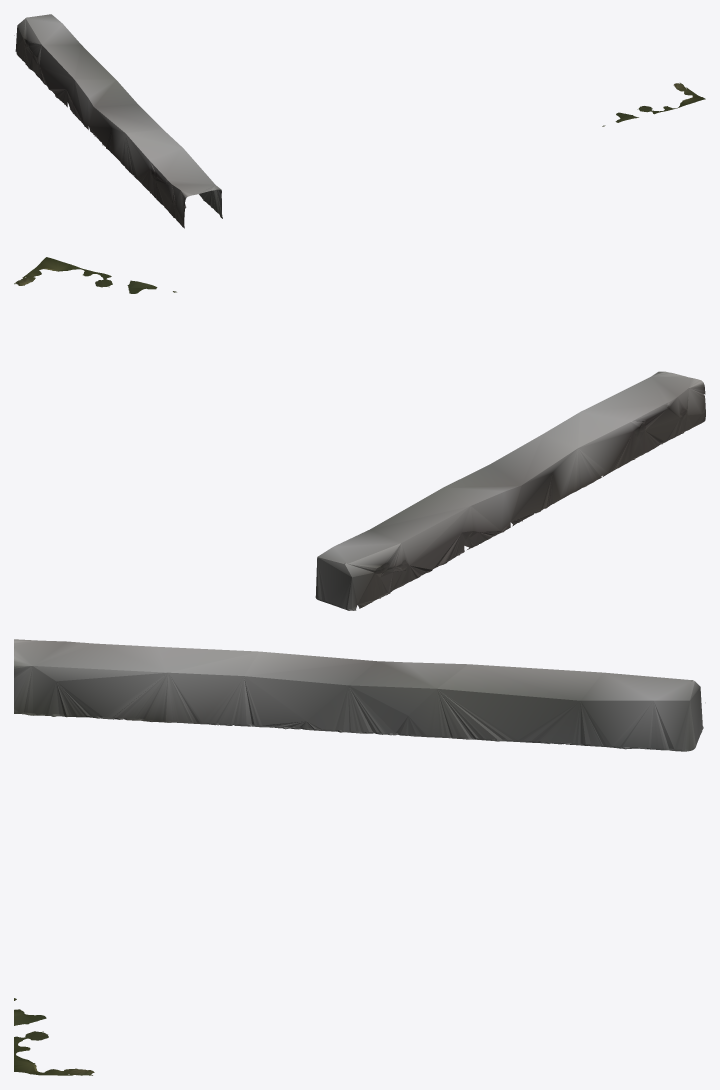
File: coarse.glb
3 renders of one model, top to bottom at view 1: azimuth 30°, elevation 25°; view 2: azimuth 150°, elevation 25°; view 3: azimuth 270°, elevation 25°, orthographic. The views are drawn at different scales.
Size of the model in its own units: 3.14 by 0.1974 by 2.35.
